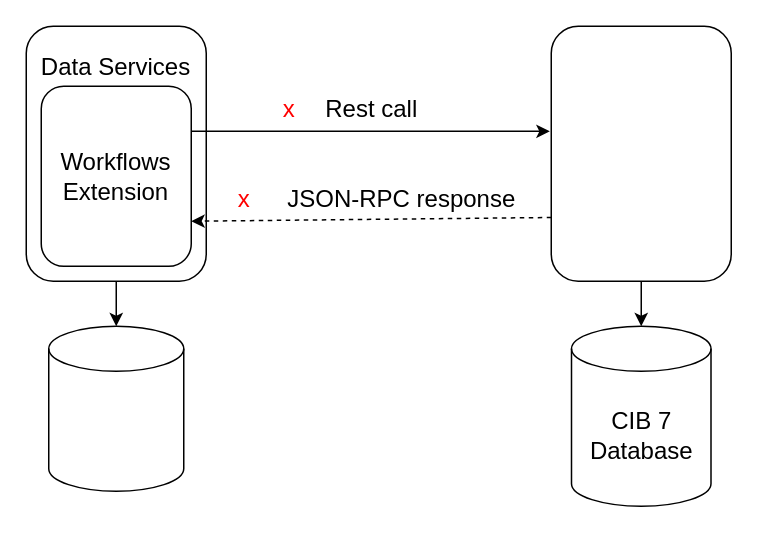
Image size: 758x533. Some labels were removed from this diagram. Here are the shapes that lost their labels. From the top down, the centre of each, then its label:
At pixel 640 153: "CIB 7".
At pixel 115 408: "Data Services Database".
